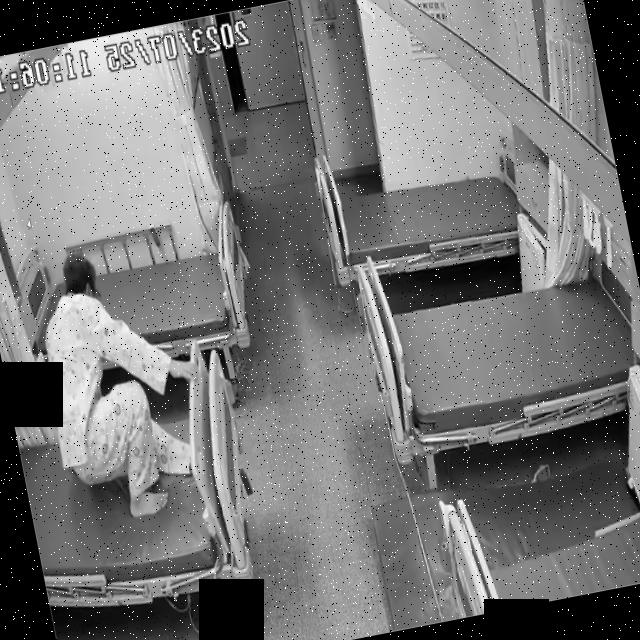bed: (7, 343, 270, 625), (361, 259, 640, 459), (9, 227, 261, 388), (322, 154, 526, 286)
danger: (29, 242, 230, 528)
patient: (31, 240, 224, 524)
